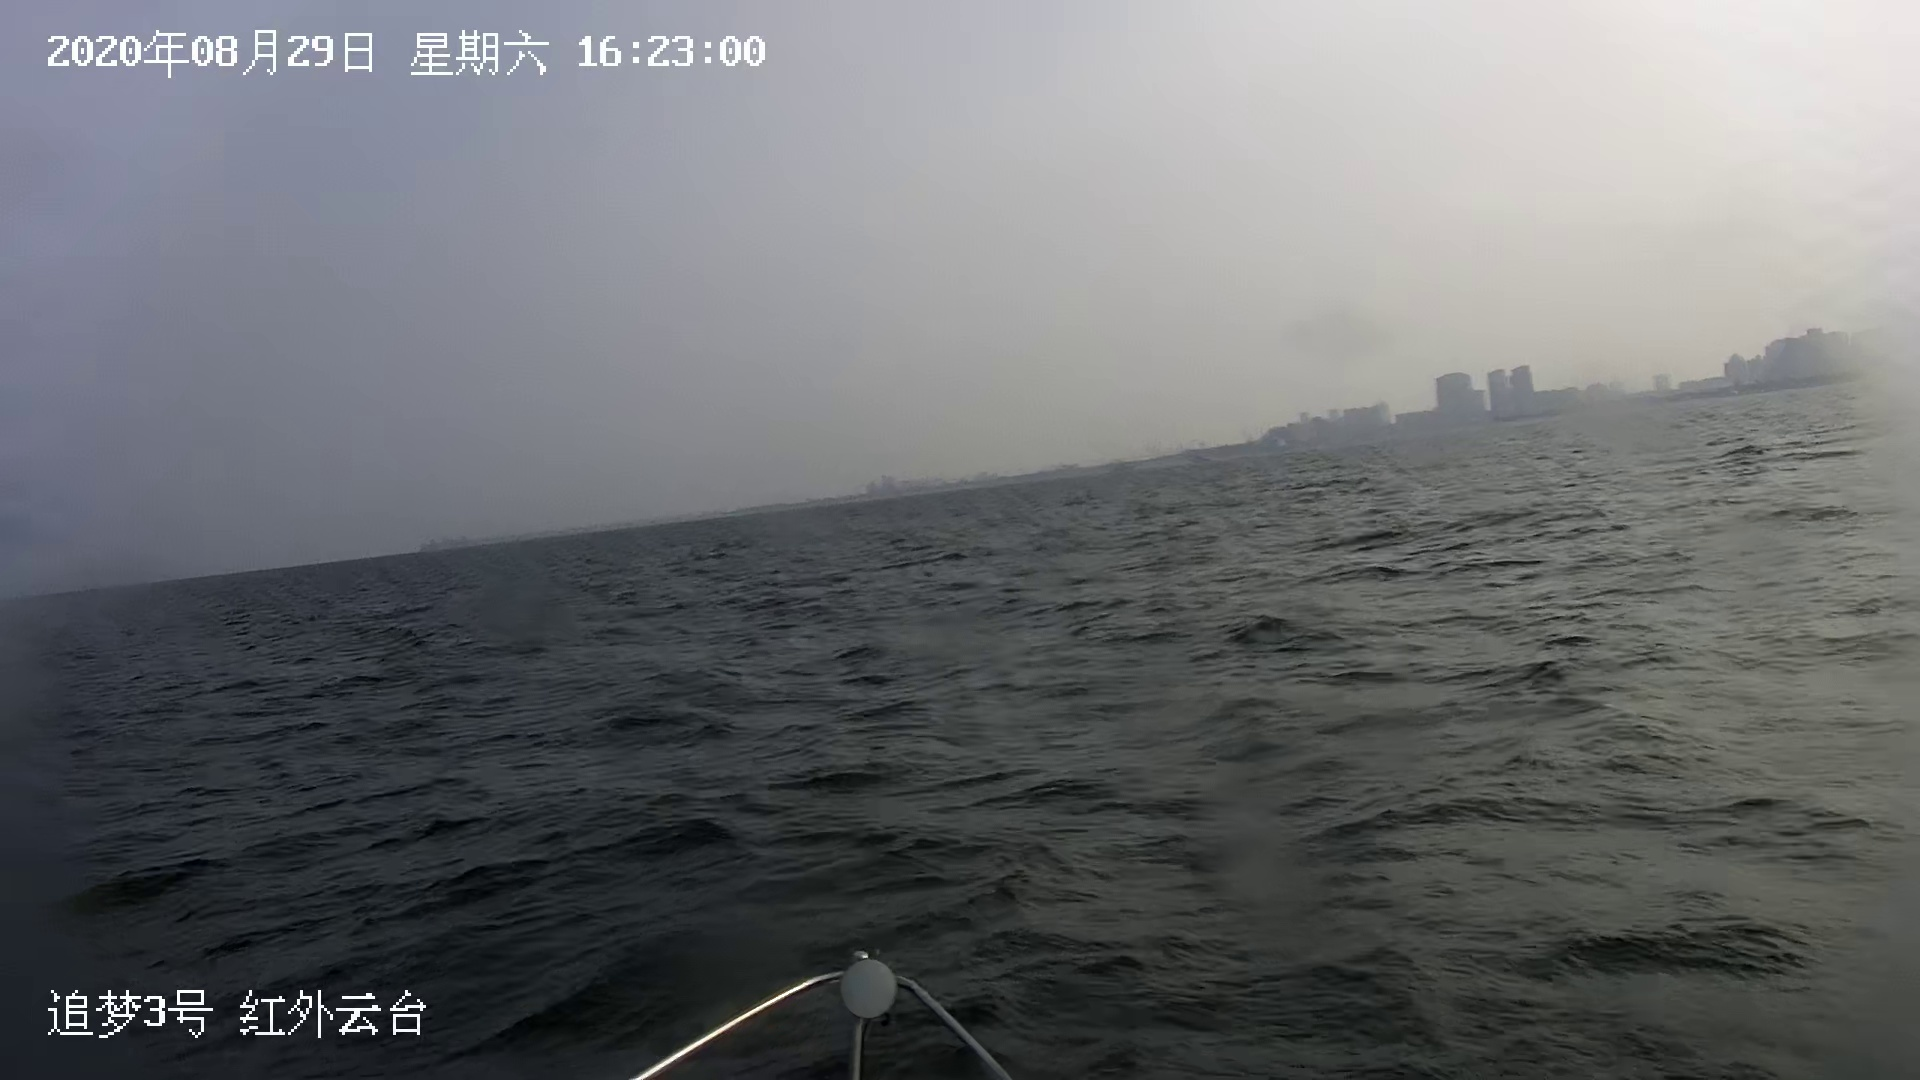coast: (409, 320, 1912, 553)
